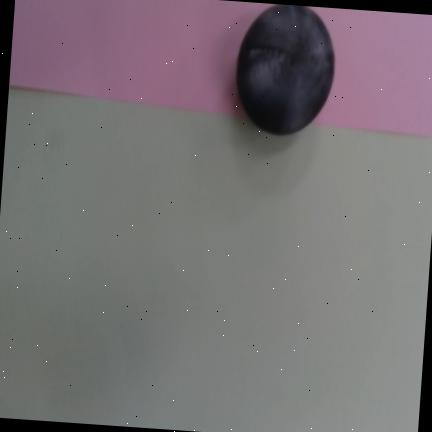Esfera: (236, 4, 334, 135)
